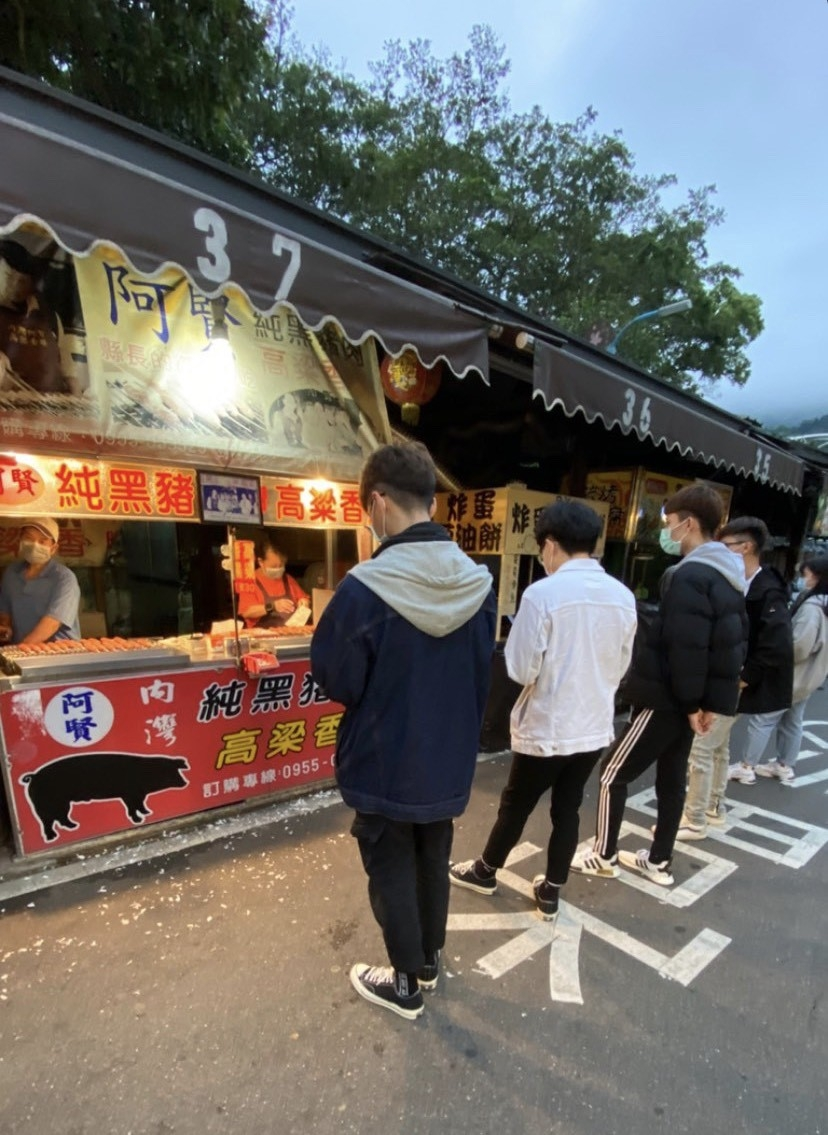people: (349, 450, 462, 1032), (611, 495, 712, 885), (511, 503, 594, 930), (687, 519, 769, 821), (752, 555, 828, 775)
